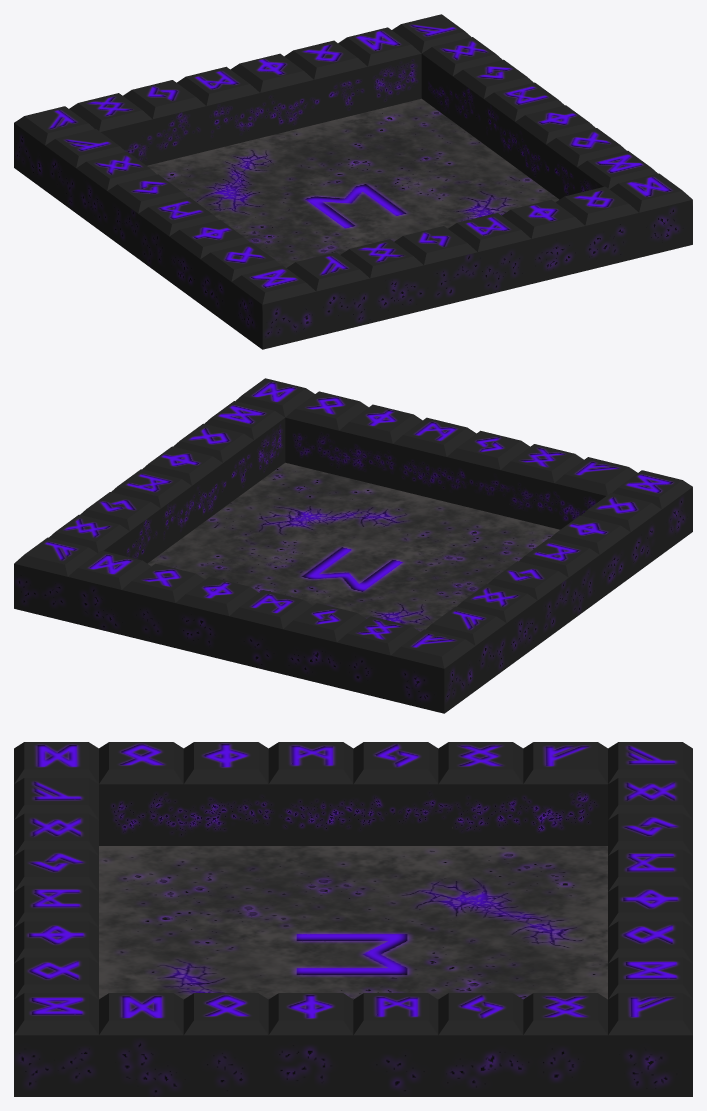
Rendered from Field_1.fbx.
3 views of the same model, one above another, from view 1: azimuth 30°, elevation 25°; view 2: azimuth 150°, elevation 25°; view 3: azimuth 270°, elevation 25° (orthographic). The views are drawn at different scales.
Visible parts, largest first — view 1: Plane001; view 2: Plane001; view 3: Plane001.
Part boxes in pixels (x1,y1,x2,y2): Plane001: [14, 14, 692, 349]; Plane001: [14, 378, 692, 713]; Plane001: [14, 742, 692, 1096].
Size of the model in its own units: 1575 by 185 by 1575.
1 material, 1 textured.
